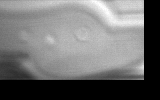cell: (13, 25, 33, 44), (74, 24, 93, 43), (41, 31, 59, 49)
